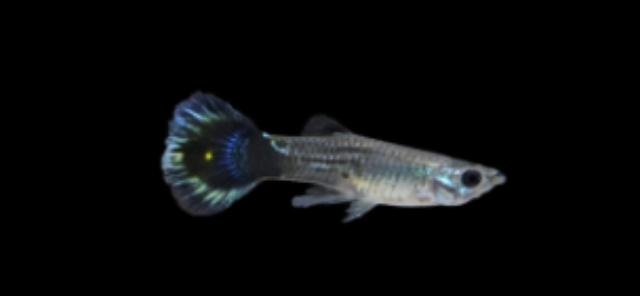Mulut: (448, 154, 530, 204)
Sirip Anal: (282, 177, 348, 213)
Sirip Ekor: (142, 75, 268, 226)
Sirip Perut: (334, 192, 386, 232)
Sirip Punggung: (295, 106, 355, 150)
